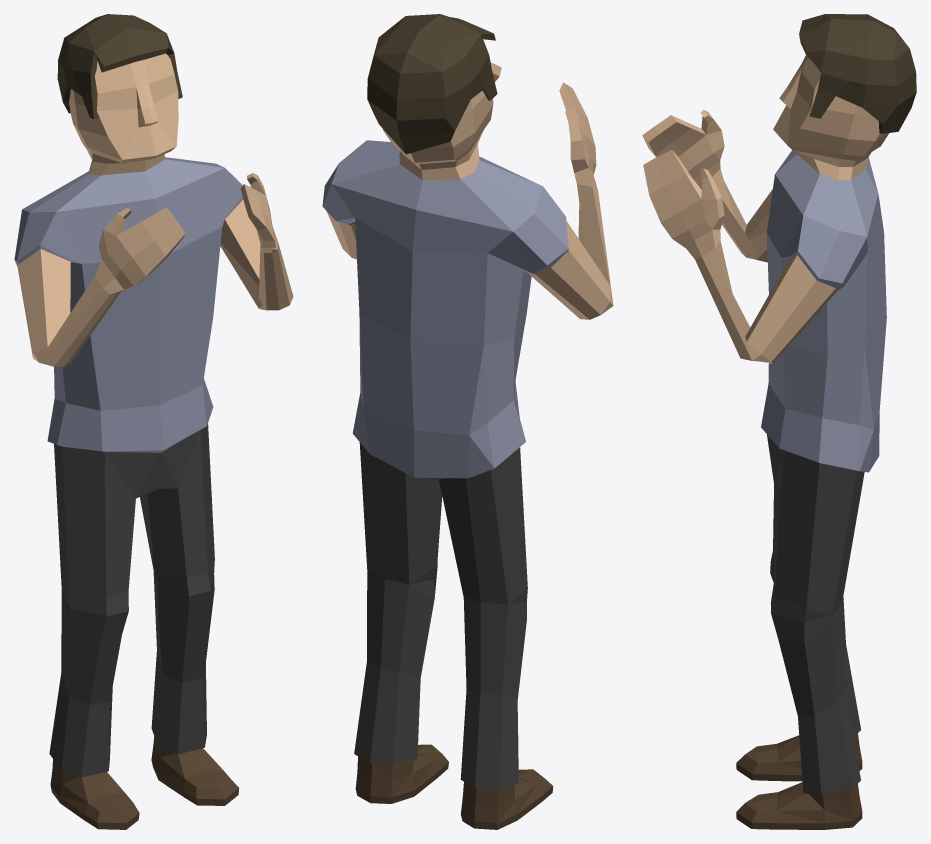
File: Male_Crowd_Shouting.glb
3 views of the same model, side by side, from view 1: azimuth 30°, elevation 25°; view 2: azimuth 150°, elevation 25°; view 3: azimuth 270°, elevation 25° (orthographic). The views are drawn at different scales.
Visible parts, largest first — view 1: Male_Crowd_Shouting; view 2: Male_Crowd_Shouting; view 3: Male_Crowd_Shouting.
Part boxes in pixels (box(x1,y1,x2,y2)): Male_Crowd_Shouting: box(14, 14, 293, 829); Male_Crowd_Shouting: box(322, 14, 613, 829); Male_Crowd_Shouting: box(642, 14, 916, 829).
Bounding box in the file's own units: 0.633 × 1.79 × 0.5747.
